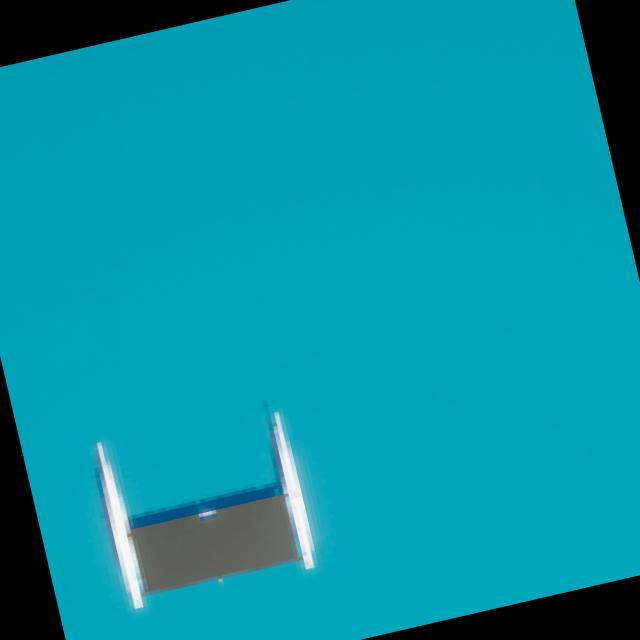boat: (70, 394, 332, 622)
drone: (128, 492, 296, 592)
